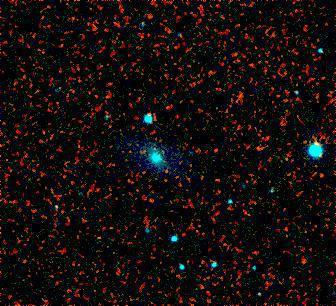star: (289, 247, 319, 277)
